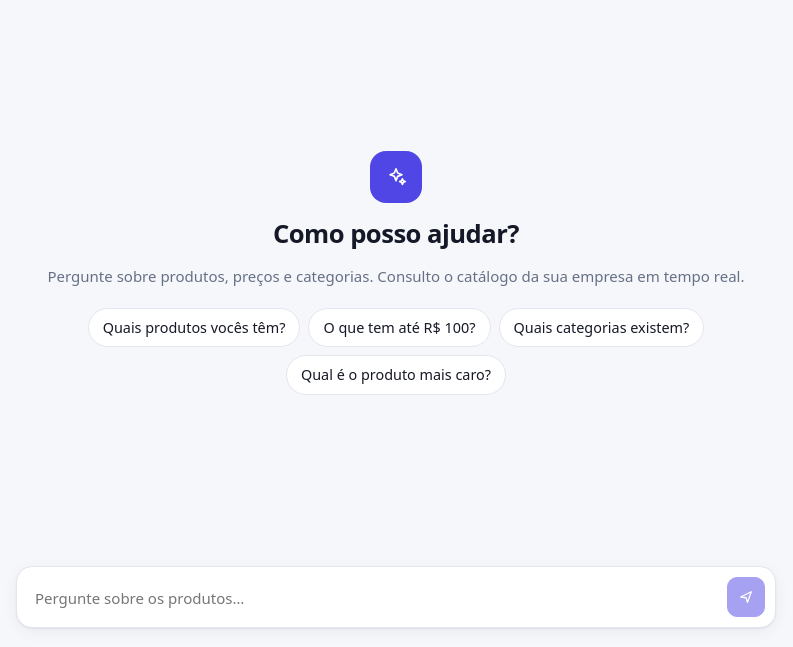
Test: ChatPage › shows the server error message when the request fails
Type "oi" into the text box named "Mensagem".
click(373, 598); type("oi")  # box [27, 578, 719, 617]
Then press Enter
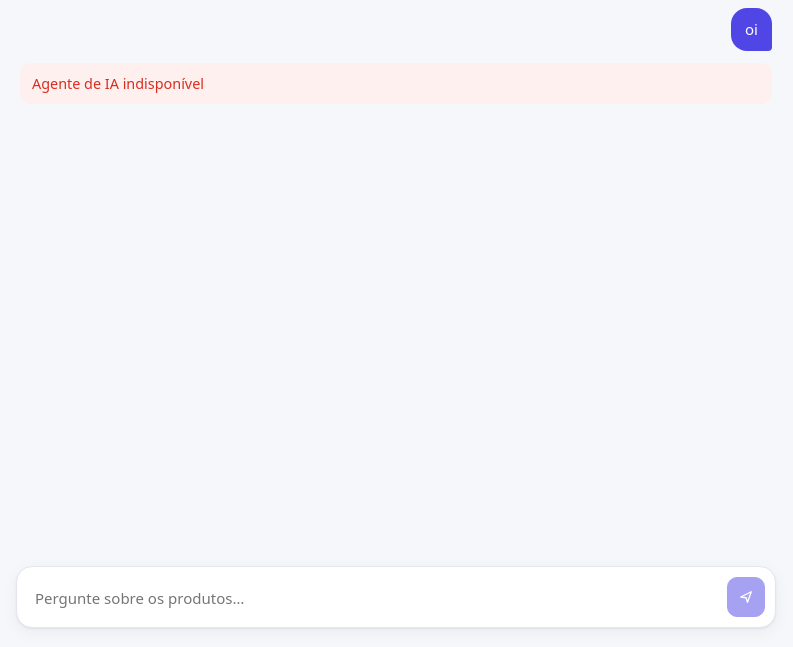
Expected: the message reads "Agente de IA indisponível", [32, 74, 204, 92]
